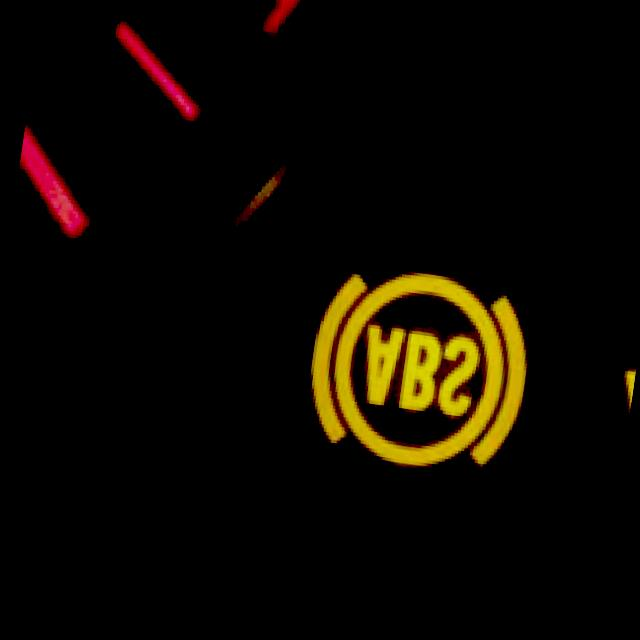kontrolka: (288, 242, 562, 498)
